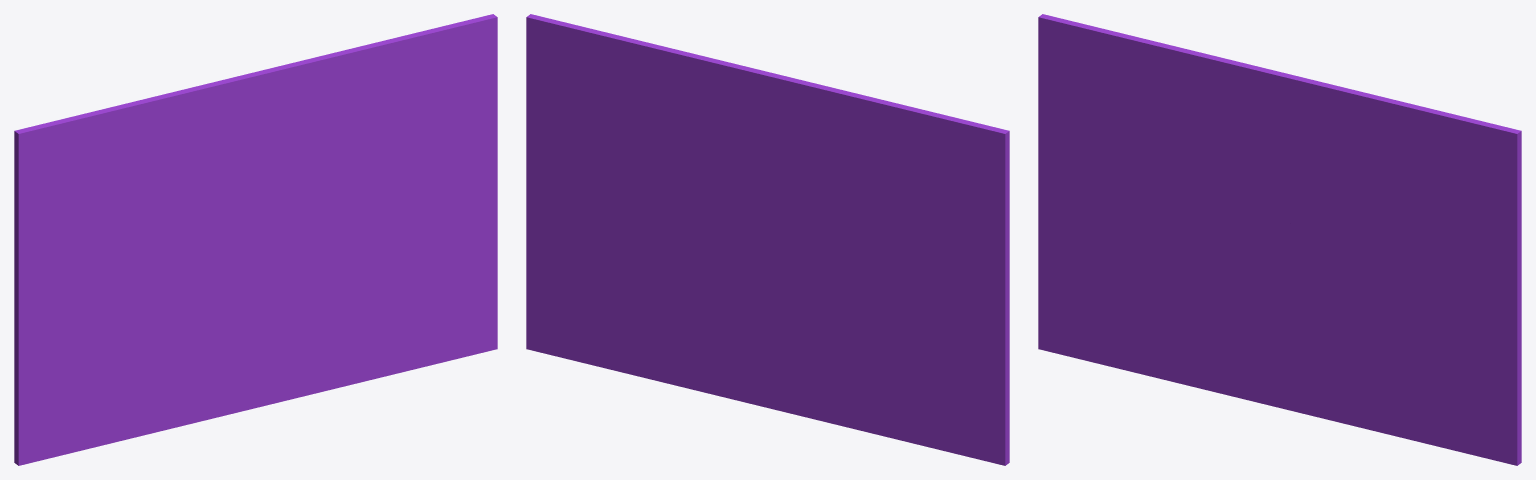
File: Glass_99_chunks.fbx
The picture shows the model from 3 angles, left to right: view 1: azimuth 30°, elevation 25°; view 2: azimuth 150°, elevation 25°; view 3: azimuth 330°, elevation 25°; orthographic projection.
Parts seen in each view (by area): view 1: Glass_99_2, Glass_99_0, Glass_99_3, Glass_99_1; view 2: Glass_99_2, Glass_99_0, Glass_99_1, Glass_99_3; view 3: Glass_99_2, Glass_99_0, Glass_99_3, Glass_99_1.
Part boxes in pixels (<box>): Glass_99_2: <box>261,14,497,371</box>; Glass_99_0: <box>14,241,405,465</box>; Glass_99_3: <box>14,54,338,246</box>; Glass_99_1: <box>14,142,243,406</box>; Glass_99_2: <box>526,14,764,372</box>; Glass_99_0: <box>622,245,1009,465</box>; Glass_99_1: <box>764,144,1009,410</box>; Glass_99_3: <box>690,53,1009,231</box>; Glass_99_2: <box>1280,90,1521,465</box>; Glass_99_0: <box>1038,240,1425,443</box>; Glass_99_3: <box>1038,14,1357,242</box>; Glass_99_1: <box>1038,48,1263,284</box>.
Bounding box in the file's own units: 1728 × 1144 × 27.2.
